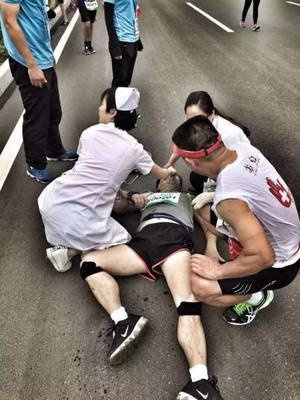falling: (81, 161, 219, 397)
